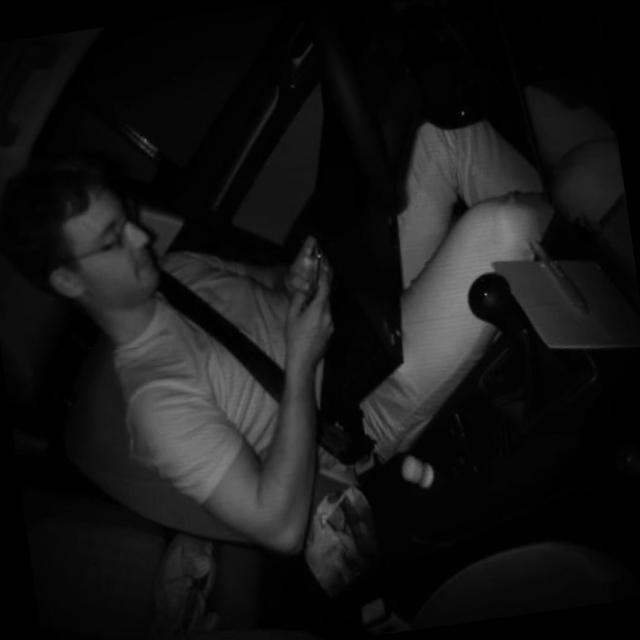pen: (529, 224, 594, 326)
